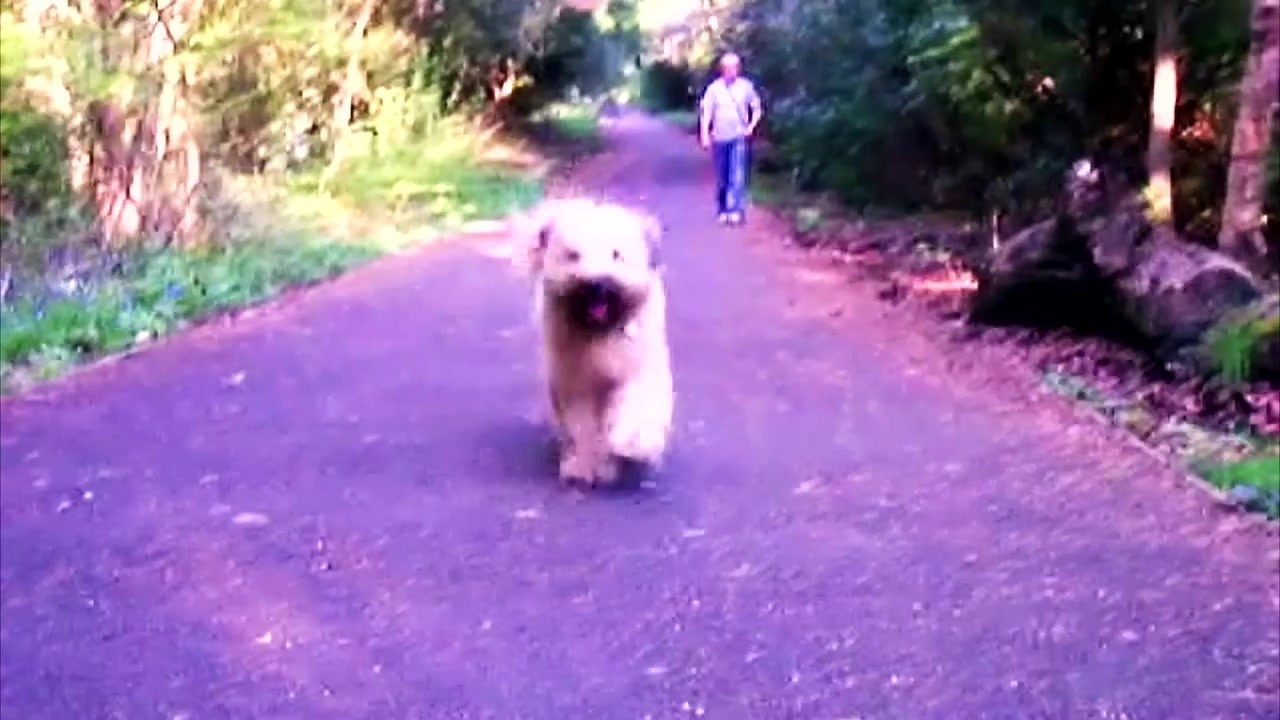dog: (518, 204, 674, 495)
